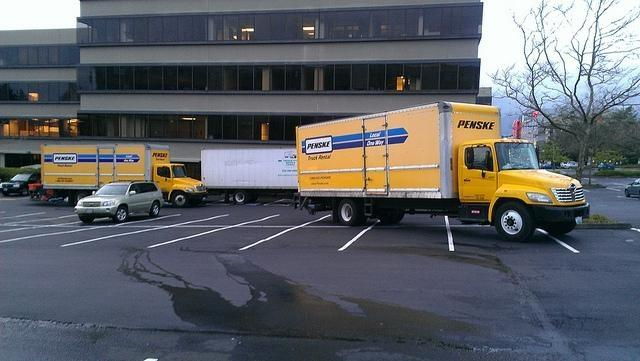car: (76, 177, 166, 224), (1, 172, 41, 196), (625, 179, 640, 196), (598, 160, 616, 172), (562, 161, 578, 170)
truck: (294, 104, 590, 244), (41, 144, 207, 208), (200, 149, 296, 205)
